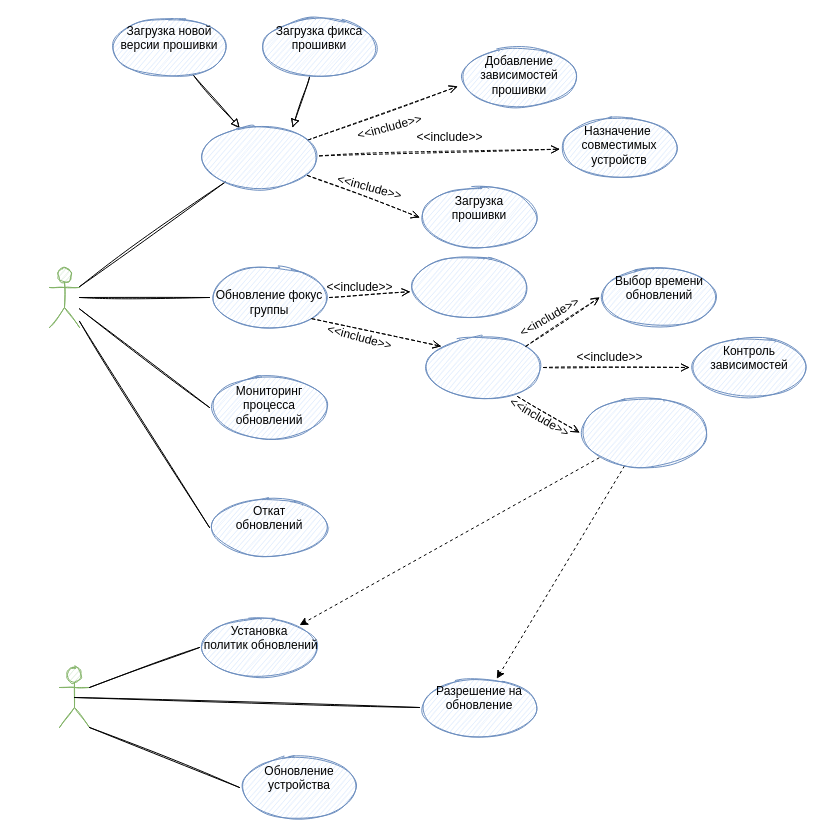
Some shapes in this 827 by 835 pixel diagram are drawn without their labels. The centre of each missing label's shape, as x and y in pixels:
"Администратор" goes at (64,297).
"Владелец устройств" goes at (74,697).
"Добавление прошивки" goes at (259,157).
"Запрос разрешения пользователя" goes at (644,432).
"Запуск пакета на исполнение" goes at (483,367).
"Создание пакета обновлений" goes at (469,287).
